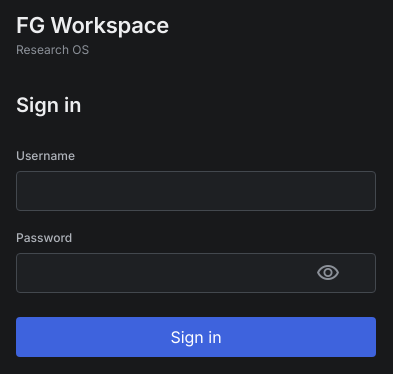
Test case: LoginPage › shows the loading label and disables the button while in flight
Expected: the button "Sign in" is enabled, [16,317,376,357]
Type "alex" into the field labelled "Username" at {"x": 196, "y": 191}, box [16,171,376,211]
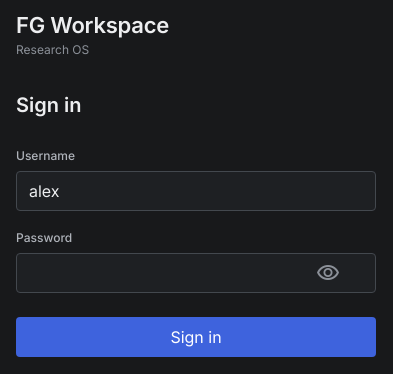
Type "DevPass1!" into the password field labelled "Password" at {"x": 196, "y": 273}, box [16,253,376,293]
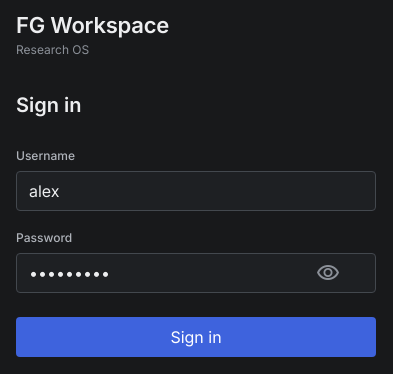
Click the button "Sign in" at {"x": 196, "y": 337}, box [16,317,376,357]
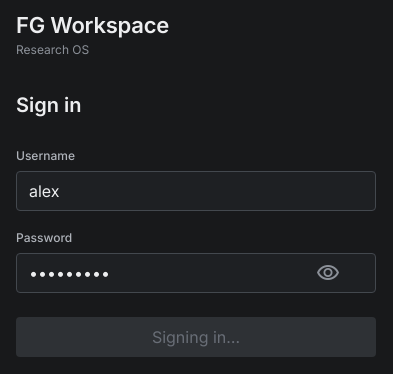
Expected: the button "Signing in…" is disabled, [16,317,376,357]
